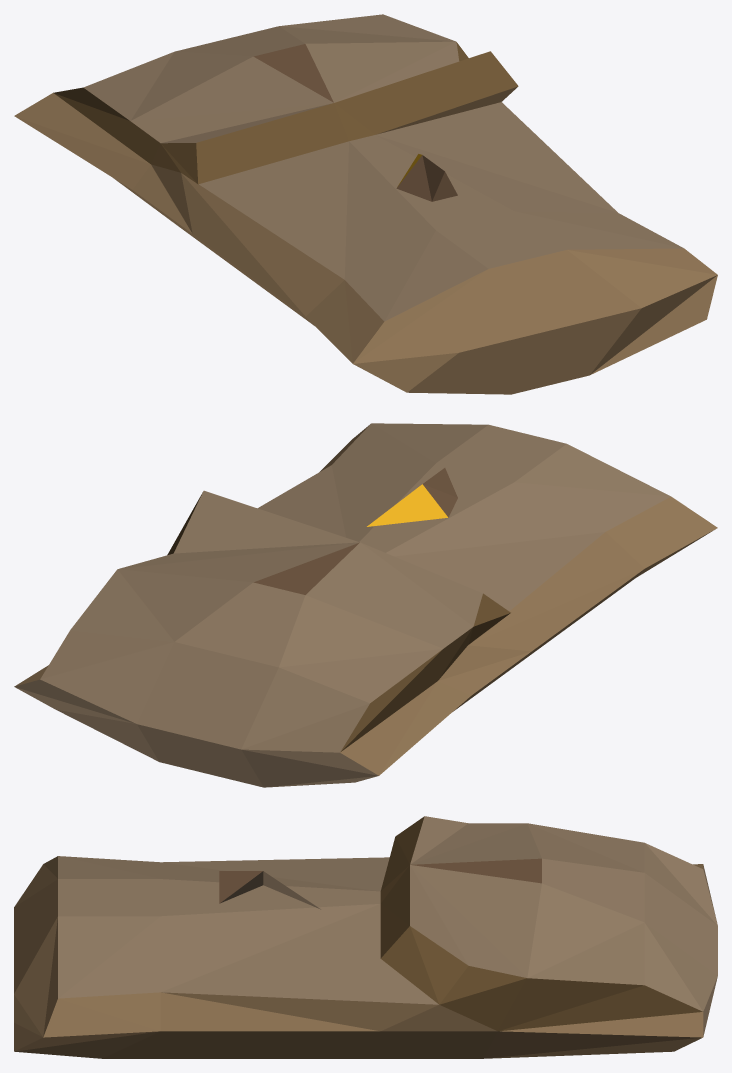
The model's file is bolt-pouch.gltf.
The picture shows the model from 3 angles, top to bottom: view 1: azimuth 30°, elevation 25°; view 2: azimuth 150°, elevation 25°; view 3: azimuth 270°, elevation 25°; orthographic projection. The views are drawn at different scales.
Bounding box in the file's own units: 28 × 13 × 48.
Materials: 1 (1 with a texture image).
